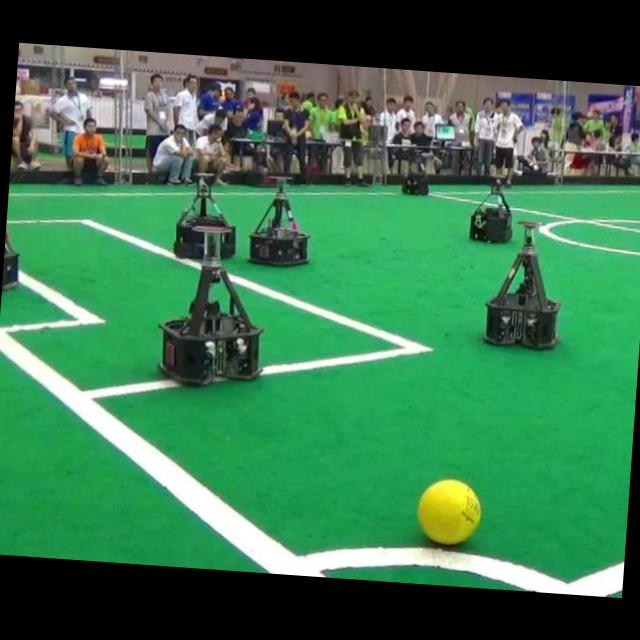ball: (417, 479, 481, 545)
robot: (159, 225, 262, 384), (484, 221, 558, 348), (173, 174, 235, 258), (249, 187, 308, 264), (469, 179, 511, 241), (402, 150, 429, 194)
